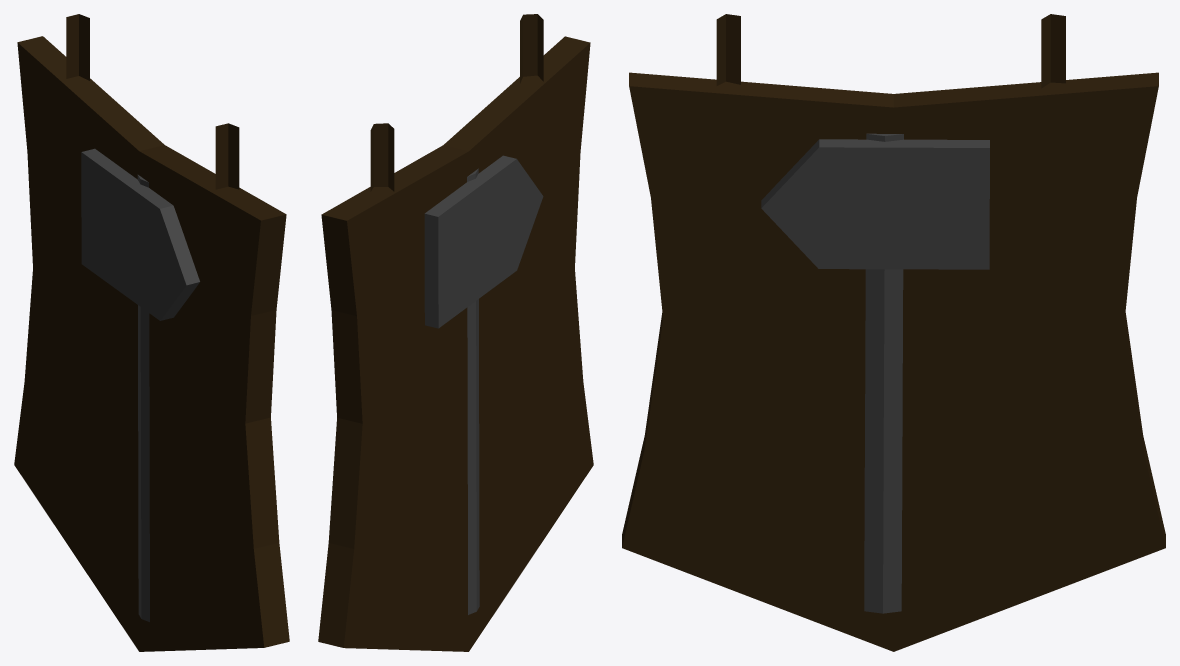
Rendered from Blacksmith_Sign.fbx.
3 views of the same model, side by side, from view 1: azimuth 30°, elevation 25°; view 2: azimuth 150°, elevation 25°; view 3: azimuth 270°, elevation 25° (orthographic). The views are drawn at different scales.
Parts seen in each view (by area): view 1: Hammer.001; view 2: Hammer.001; view 3: Hammer.001.
Boxes of the visible parts, x1=… form: Hammer.001: x1=14, y1=14, x2=289, y2=651; Hammer.001: x1=318, y1=14, x2=593, y2=651; Hammer.001: x1=622, y1=14, x2=1165, y2=651.
Size of the model in its own units: 10.44 by 105 by 83.06.
Materials: 1 (1 with a texture image).
